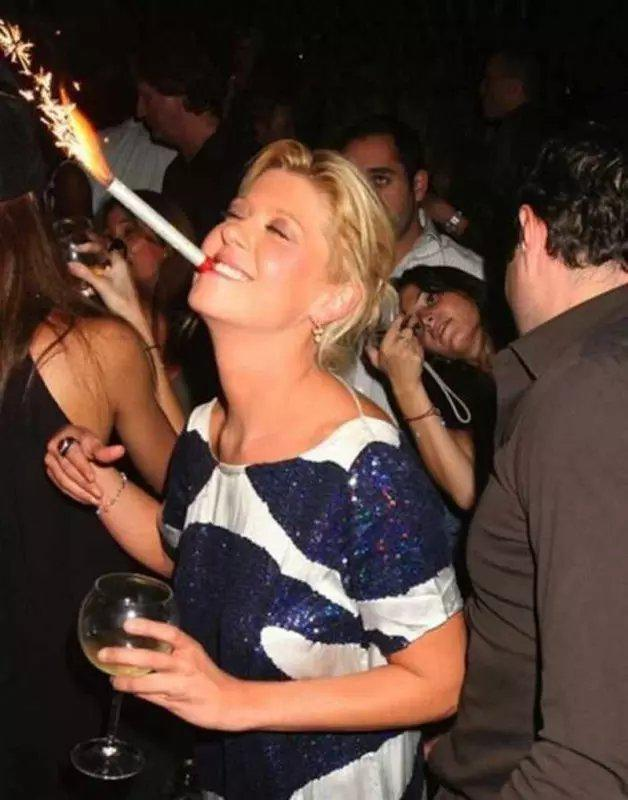Drunk: (191, 179, 325, 324)
